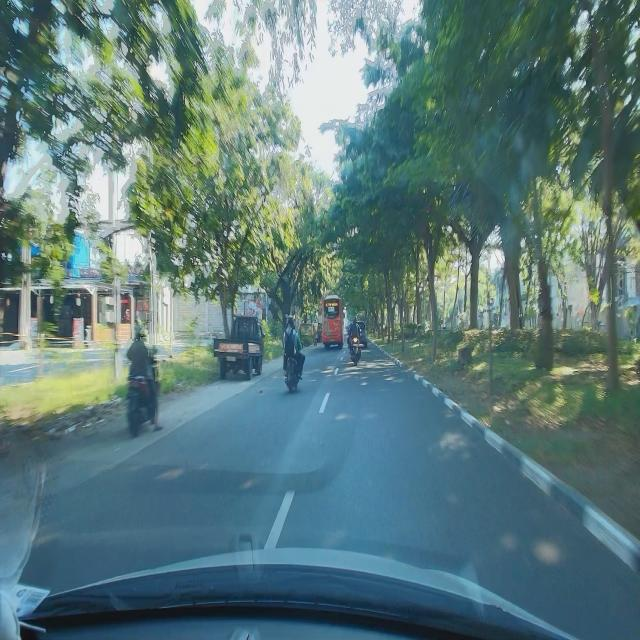bus: (320, 293, 345, 349)
truck: (212, 313, 264, 382)
